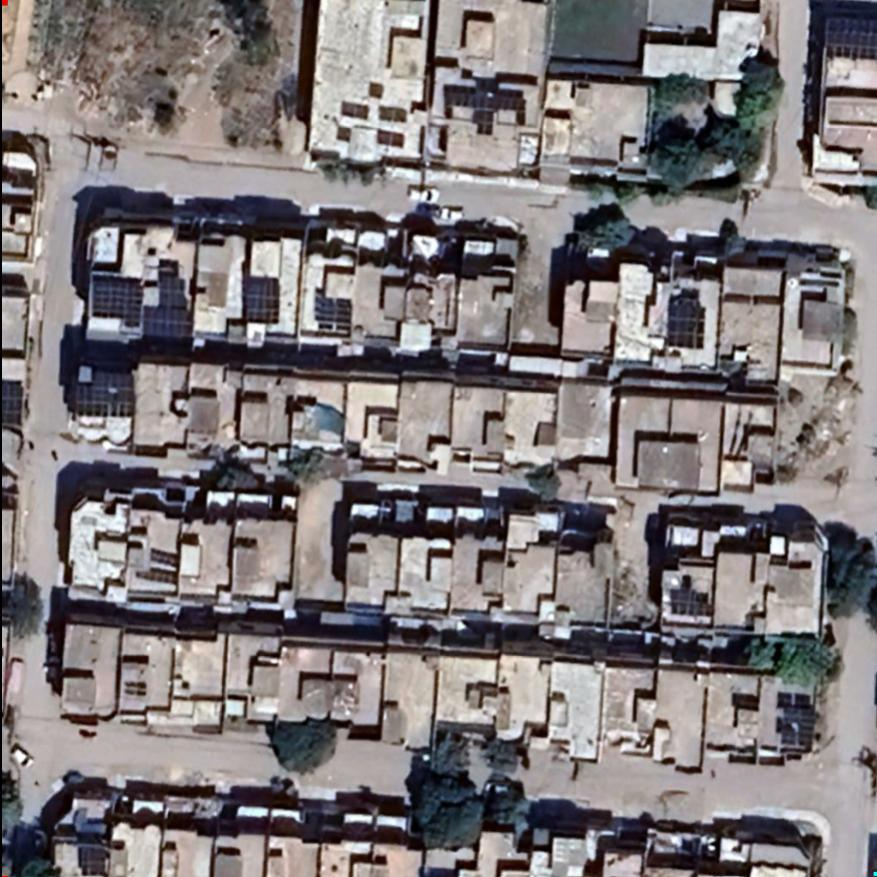Solarpanel: (85, 269, 198, 342), (437, 80, 531, 135), (66, 363, 142, 422), (655, 284, 709, 352), (771, 690, 819, 753), (821, 10, 875, 62), (239, 271, 283, 328), (664, 576, 719, 621), (130, 545, 185, 586), (309, 284, 353, 333), (0, 370, 29, 438), (327, 98, 367, 147), (367, 100, 406, 148), (72, 840, 116, 876), (363, 78, 389, 98)
